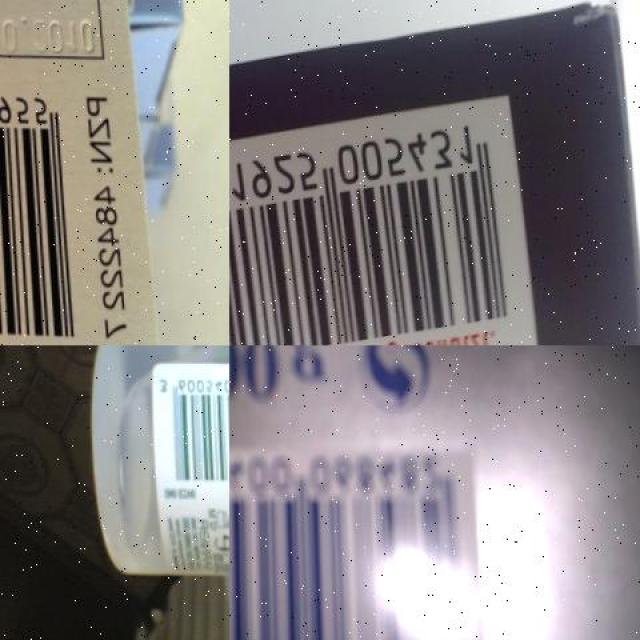Barcode: (229, 87, 539, 345), (229, 442, 493, 640), (0, 63, 88, 345), (152, 369, 229, 488)
